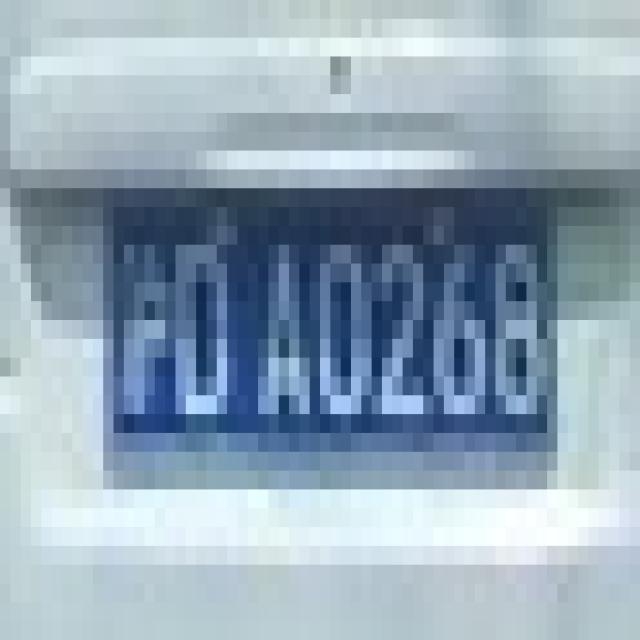licenseplate: (106, 196, 552, 468)
